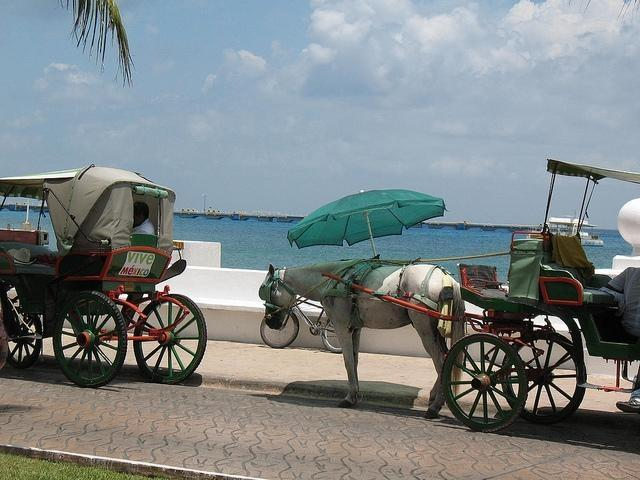bicycle: (260, 296, 342, 352)
